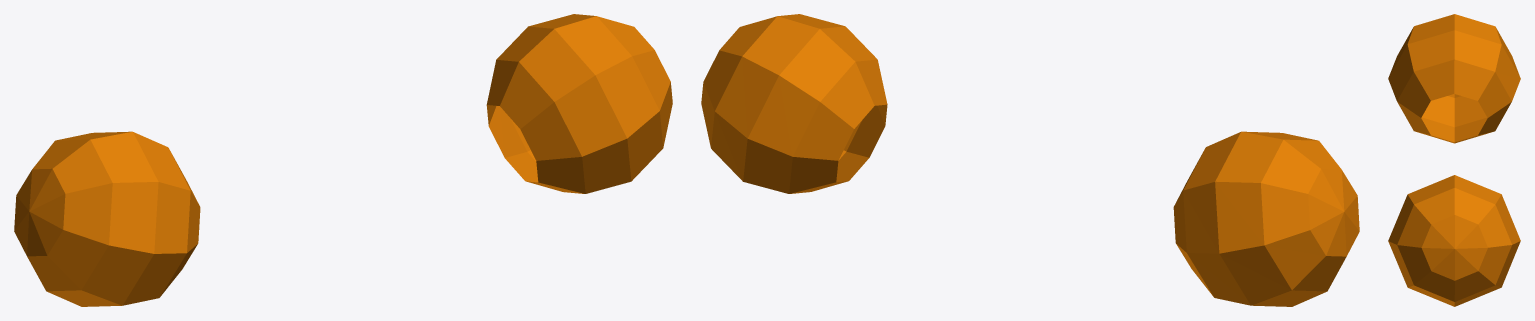
The model's file is BR_Croagunk-Shiny02.obj.
The picture shows the model from 3 angles, left to right: view 1: azimuth 30°, elevation 25°; view 2: azimuth 150°, elevation 25°; view 3: azimuth 270°, elevation 25°; orthographic projection. The views are drawn at different scales.
Visible parts, largest first — view 1: gureggru; view 2: gureggru; view 3: gureggru.
Part boxes in pixels (x1,y1,x2,y2): gureggru: (14,14,672,306); gureggru: (701,14,1359,306); gureggru: (1388,14,1520,306).
Bounding box in the file's own units: 4.98 × 1.26 × 1.29.
Materials: 1 (1 with a texture image).
